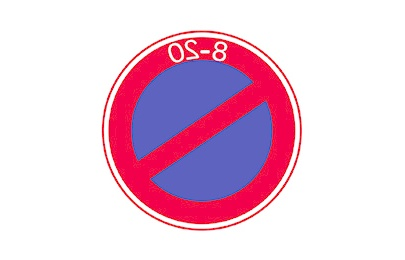Prohibition_sign: (102, 19, 310, 228)
